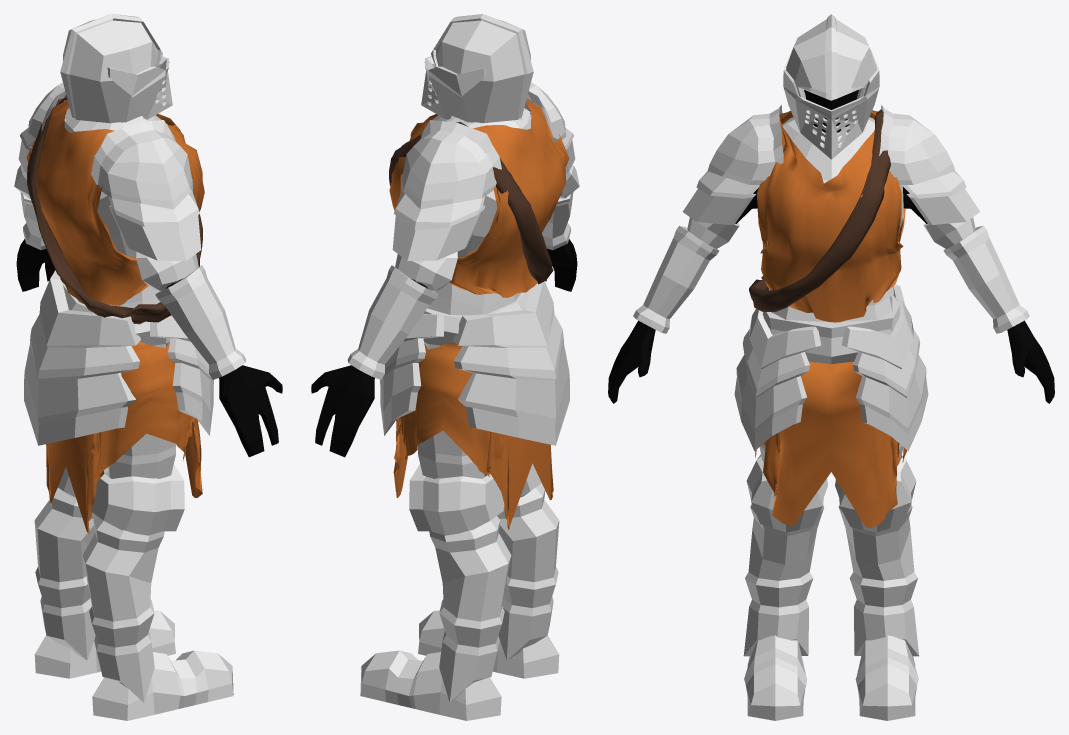
Rendered from texture_test.fbx.
The picture shows the model from 3 angles, left to right: view 1: azimuth 30°, elevation 25°; view 2: azimuth 150°, elevation 25°; view 3: azimuth 270°, elevation 25°; orthographic projection. The views are drawn at different scales.
Visible parts, largest first — view 1: Cube.010, Cube.013, Shoulder Pads, Plane.001, Cube.015, Cube.011, Helmet, Cube.007, Cube.012, Feet, Cube.016, Helmet Mast (+5 smaller); view 2: Cube.010, Cube.013, Shoulder Pads, Plane.001, Cube.015, Cube.011, Helmet, Cube.007, Cube.012, Feet, Cube.016, Cube.001 (+5 smaller); view 3: Plane.001, Cube.013, Cube.010, Cube.015, Shoulder Pads, Cube.011, Cube.007, Helmet, Cube.016, Feet, Cube.012, Helmet Mast (+4 smaller).
Part boxes in pixels (box(x1,y1,x2,y2)): Cube.010: box(34, 487, 164, 702); Cube.013: box(24, 270, 213, 445); Shoulder Pads: box(18, 82, 201, 260); Plane.001: box(26, 100, 204, 305); Cube.015: box(46, 342, 202, 533); Cube.011: box(34, 610, 233, 720); Helmet: box(60, 14, 162, 123); Cube.007: box(20, 192, 246, 379); Cube.012: box(58, 464, 184, 535); Feet: box(16, 239, 282, 457); Cube.016: box(27, 96, 202, 324); Helmet Mast: box(107, 56, 172, 119); Cube.010: box(429, 483, 559, 702); Cube.013: box(380, 281, 569, 445); Shoulder Pads: box(392, 82, 575, 260); Plane.001: box(389, 99, 569, 297); Cube.015: box(393, 341, 553, 529); Cube.011: box(360, 610, 559, 720); Helmet: box(431, 14, 533, 123); Cube.007: box(347, 192, 573, 379); Cube.012: box(409, 463, 541, 535); Feet: box(311, 110, 577, 457); Cube.016: box(389, 122, 553, 284); Cube.001: box(401, 114, 531, 315); Plane.001: box(756, 110, 905, 322); Cube.013: box(734, 284, 928, 451); Cube.010: box(743, 504, 919, 656); Cube.015: box(755, 361, 907, 527); Shoulder Pads: box(682, 105, 980, 224); Cube.011: box(744, 635, 918, 720); Cube.007: box(633, 225, 1029, 333); Helmet: box(786, 14, 876, 132); Cube.016: box(749, 109, 890, 311); Feet: box(608, 90, 1054, 403); Cube.012: box(746, 454, 916, 532); Helmet Mast: box(783, 50, 879, 159).
Bounding box in the file's own units: 278 × 173 × 72.21.
